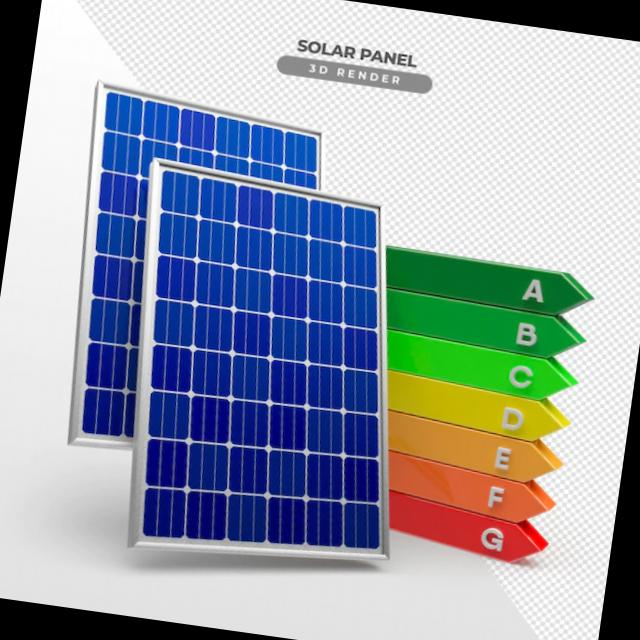no faulty: (148, 173, 382, 548), (81, 97, 310, 453)
